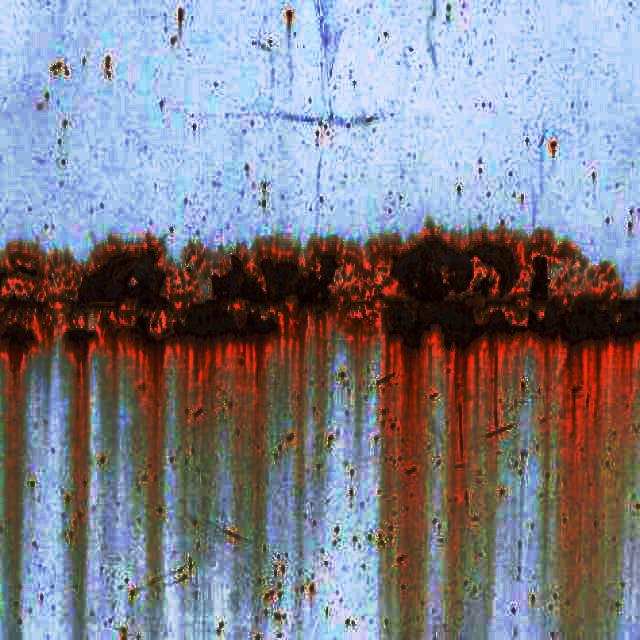Corrosion: (386, 257, 640, 348), (389, 238, 518, 346), (528, 256, 640, 342), (212, 255, 338, 305), (78, 251, 165, 305), (391, 303, 457, 342), (174, 301, 238, 338), (0, 250, 44, 302), (1, 323, 33, 346), (67, 329, 95, 344)
